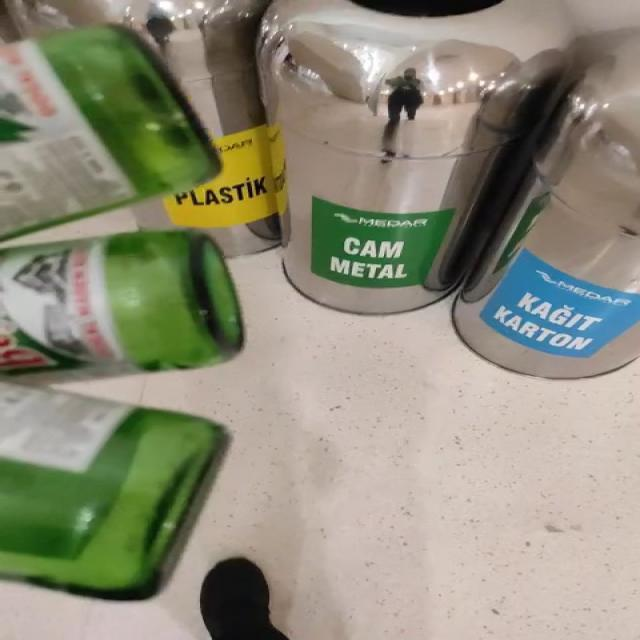Bin: (259, 0, 575, 314)
Glass: (1, 384, 225, 601), (1, 25, 219, 237), (1, 230, 243, 377)
